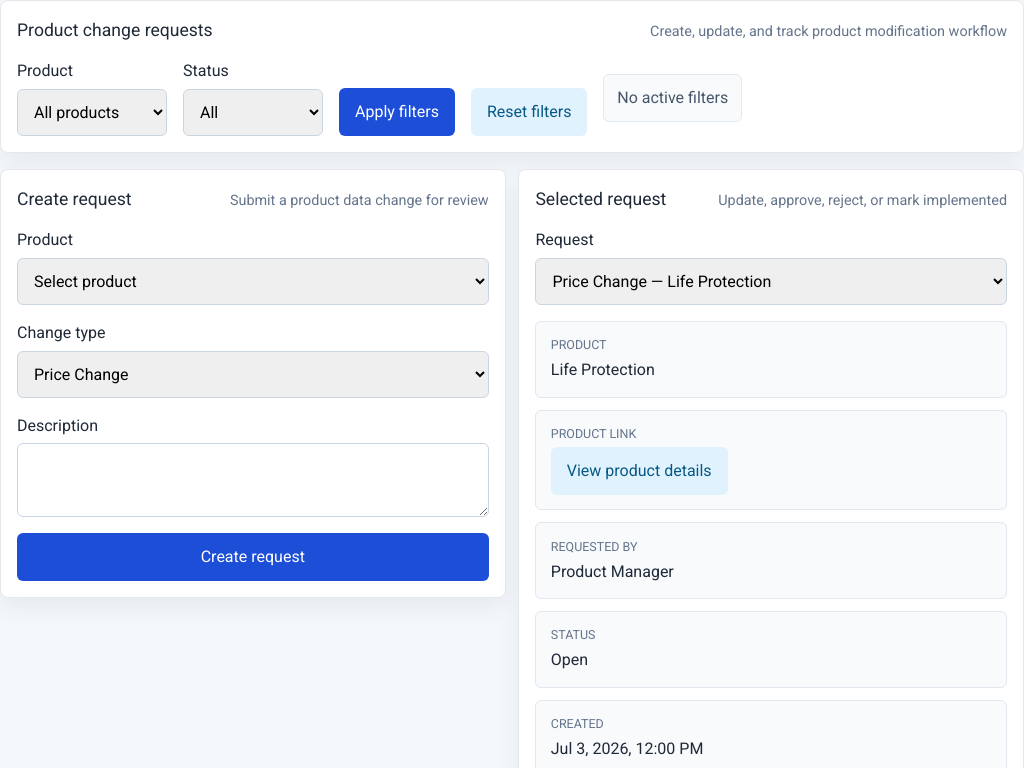
Scenario: ProductChangeRequestsPage › creates a product change request and shows it in the tracker table
Check: the element "Create request" is shown, box [0,169,506,598]
Step 1. Select "Life Protection" in the dropdown named "Product for change request" → (253, 282), box [17,258,489,305]
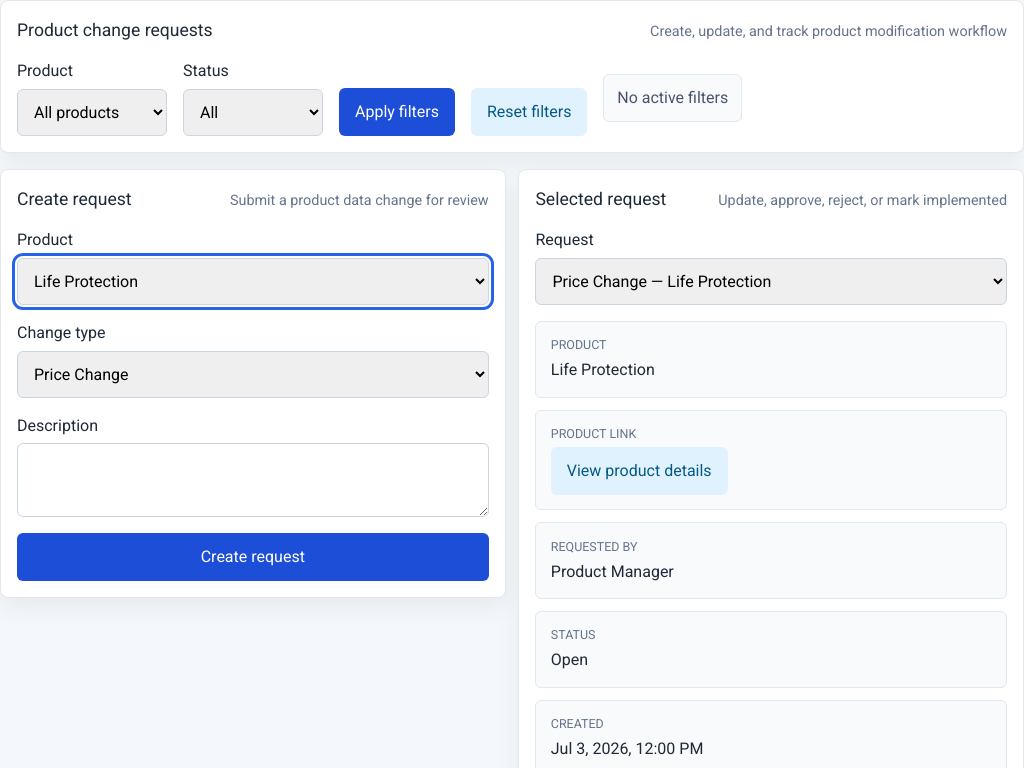
Step 2. Select "Status Change" in the dropdown named "Product change request type" → (253, 374), box [17,351,489,398]
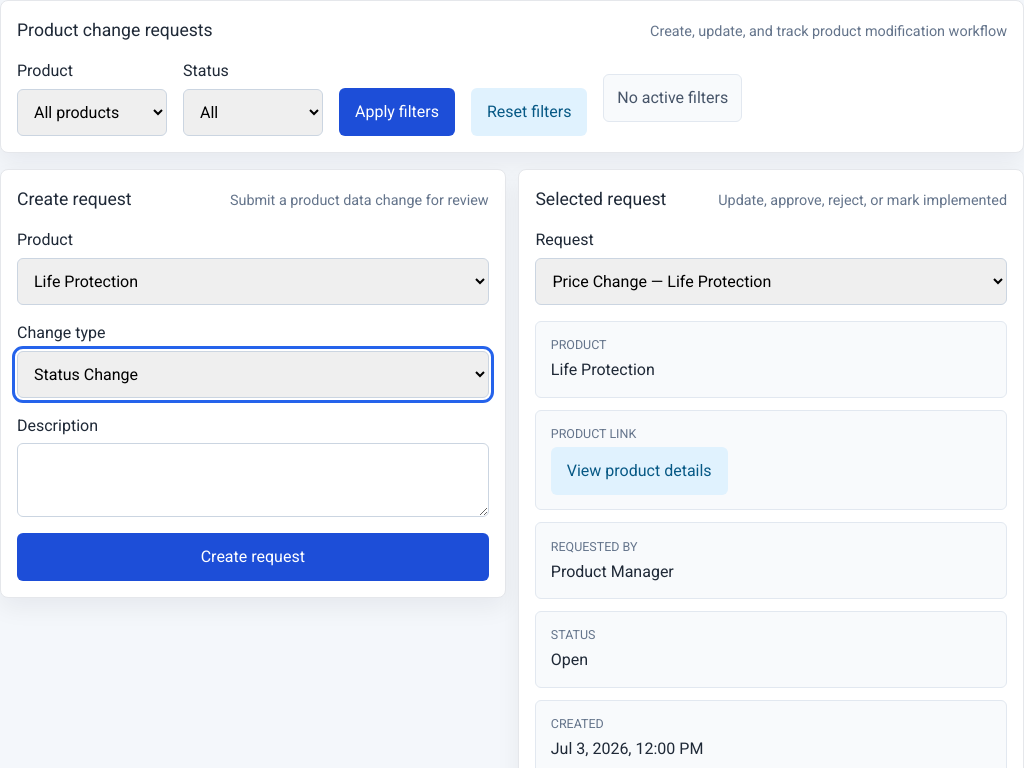
Step 3. Type "Deactivate legacy tariff for new customers." into the text box named "Product change request description" → (253, 480), box [17,443,489,517]
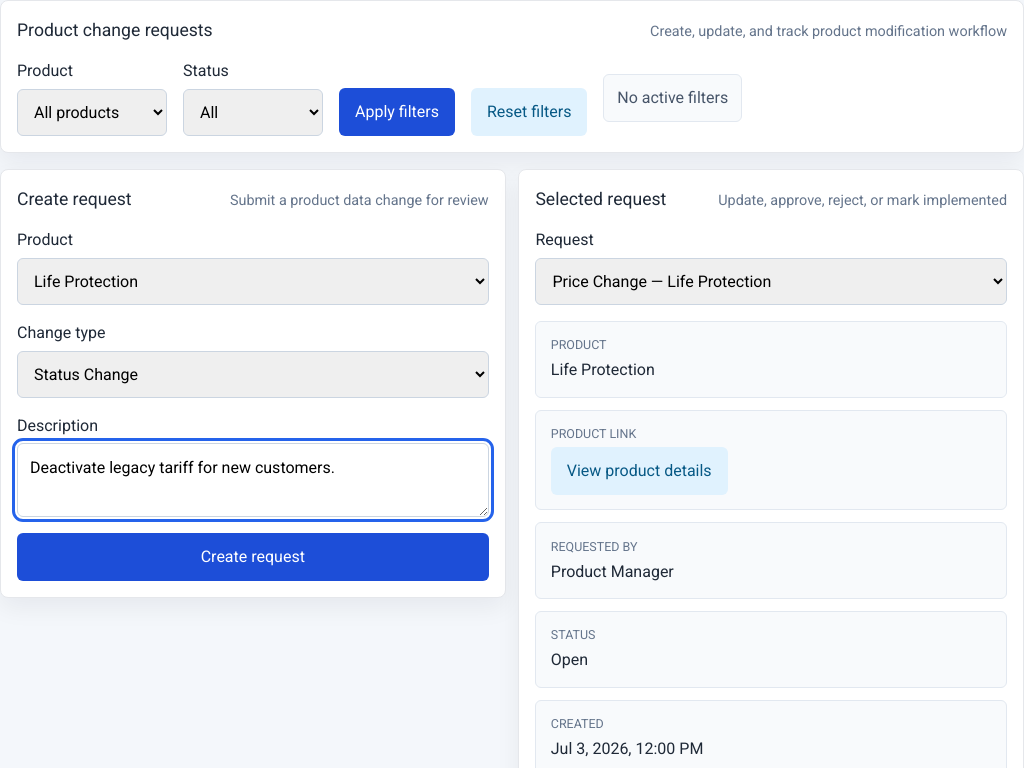
Step 4. Click the button "Create request" → (253, 557), box [17,533,489,581]
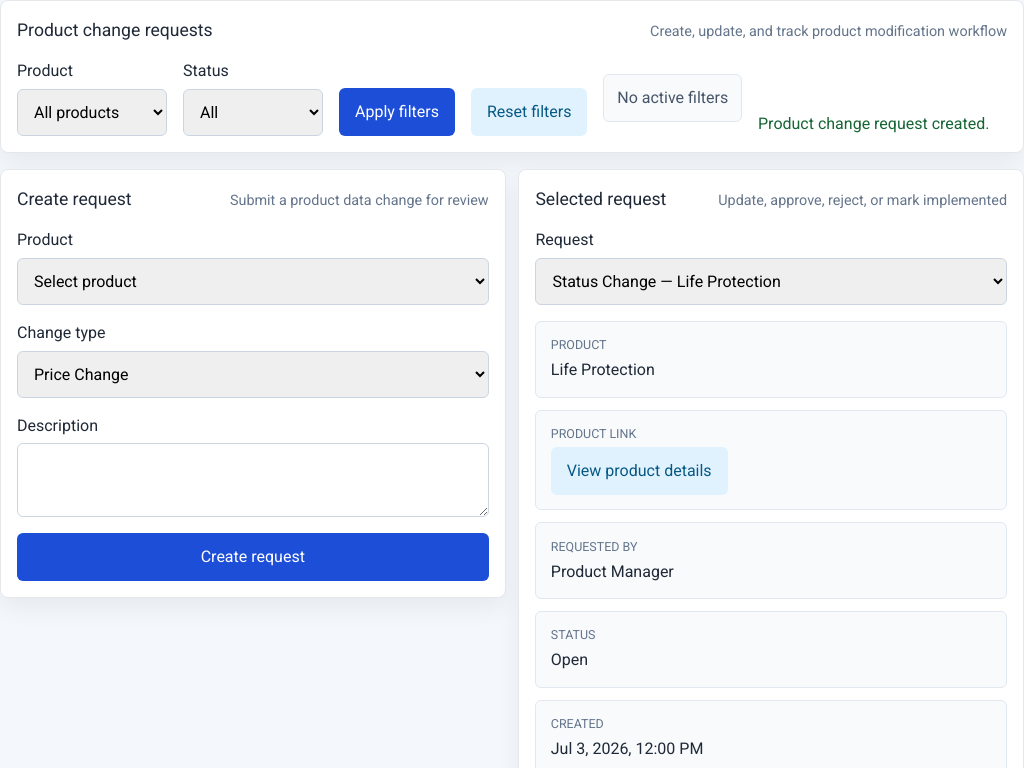
Check: the text "Product change request created." is shown, box [758,112,990,136]
